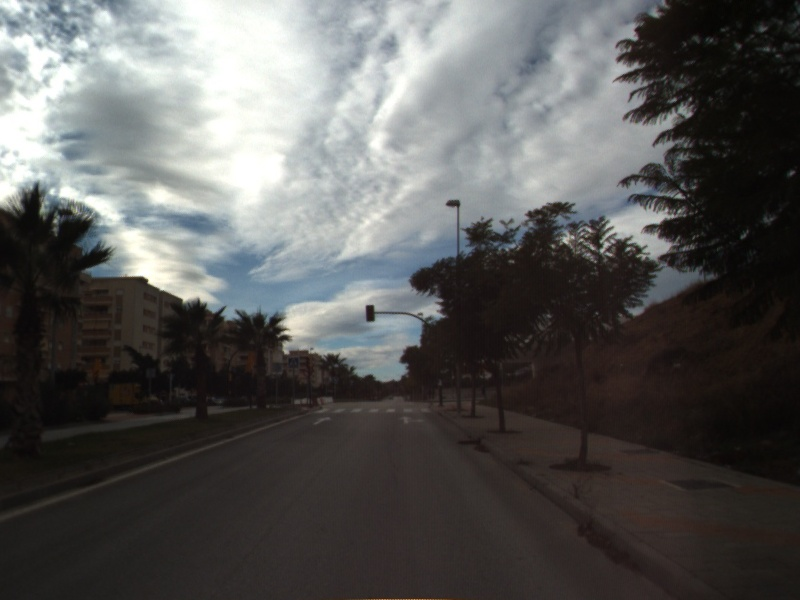STRAIGHT: (312, 414, 334, 426)
STRAIGHT_RIGHT: (396, 414, 427, 426)
